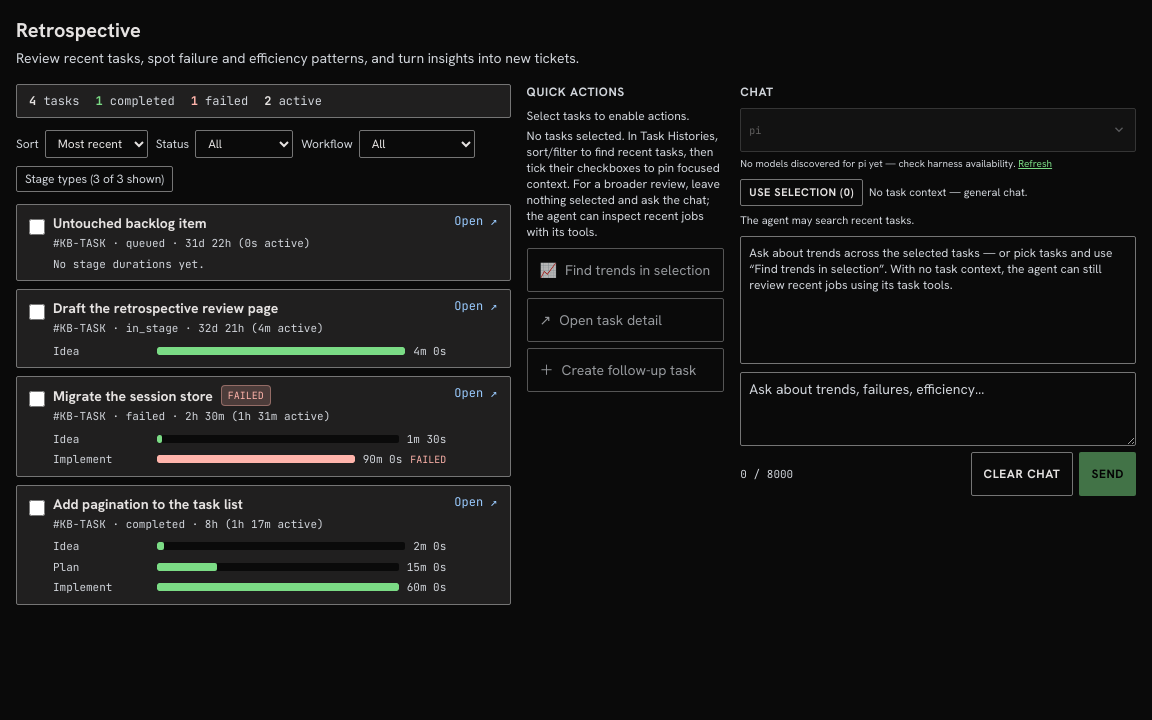
Test: RetrospectivePage › shares selection across panes
The width and height of the screenshot is (1152, 720).
Expected: the list item with test id "retrospective-task-task-done-1" is shown, [16,484,510,604]
Expected: the button with test id "retrospective-action-find-trends" is disabled, [526,248,724,292]
Click the checkbox named "Select Add pagination to the task list as chat context".
click(37, 508)  # box [29,500,45,516]
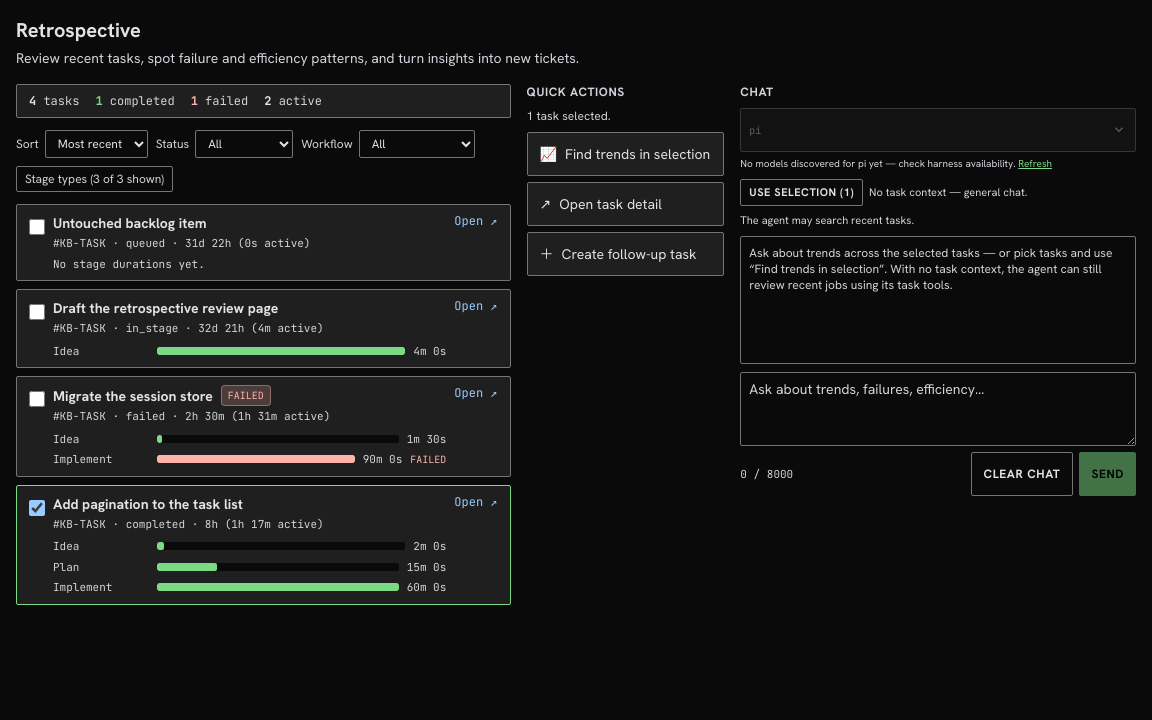
Now the button with test id "retrospective-action-find-trends" is enabled, box [526,132,724,176]
Now the text with test id "retrospective-action-context" reads "1 task selected.", box [526,108,611,124]
Now the button "Use selection (1)" is shown, box [740,179,863,206]
